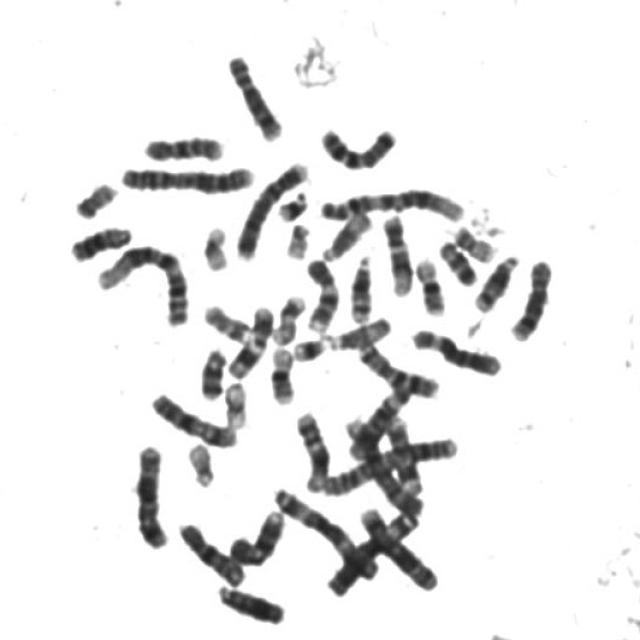A1: (90, 235, 195, 327), (315, 179, 469, 224)
A2: (318, 428, 463, 496), (113, 154, 260, 196)
A3: (267, 478, 380, 581), (320, 514, 422, 597)
B4: (231, 152, 313, 261), (339, 414, 425, 516)
B5: (354, 498, 444, 592), (129, 435, 173, 550)
C10: (172, 513, 250, 588), (138, 126, 228, 163)
C11: (222, 296, 278, 379), (379, 409, 427, 497)
C12: (290, 404, 333, 494), (377, 206, 418, 298)
C6: (344, 376, 416, 459), (406, 319, 506, 378)
C7: (351, 332, 445, 399), (314, 117, 402, 172)
C8: (222, 46, 288, 142), (506, 250, 560, 342)
C9: (224, 502, 288, 568), (300, 250, 344, 334)
D13: (212, 576, 290, 626), (65, 216, 137, 263)
D14: (468, 244, 524, 314), (344, 246, 378, 325)
D15: (316, 201, 376, 262), (321, 308, 396, 352)
E16: (410, 248, 451, 318), (264, 339, 300, 405)
E17: (197, 295, 255, 345), (267, 287, 310, 346)
E18: (433, 231, 481, 287), (195, 338, 231, 401)
F19: (197, 216, 235, 273), (218, 372, 252, 430)
F20: (68, 173, 122, 220), (448, 218, 502, 263)
G21: (270, 182, 312, 222), (288, 327, 332, 362)
G22: (182, 434, 220, 489), (280, 214, 315, 259)
X: (144, 384, 242, 450)
